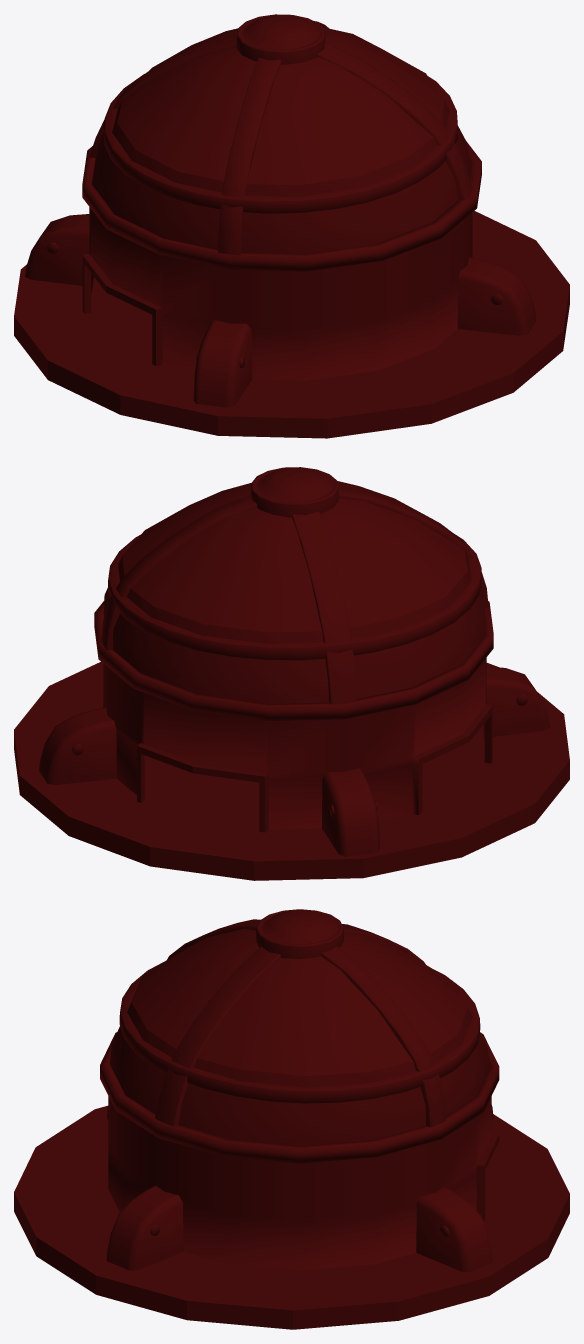
Rendered from Project Name (1).fbx.
3 renders of one model, top to bottom at view 1: azimuth 30°, elevation 25°; view 2: azimuth 150°, elevation 25°; view 3: azimuth 270°, elevation 25°, orthographic.
Visible parts, largest first — view 1: Merged Objects; view 2: Merged Objects; view 3: Merged Objects.
Part boxes in pixels (x1,y1,x2,y2): Merged Objects: (14, 14, 569, 438); Merged Objects: (14, 467, 569, 880); Merged Objects: (14, 909, 569, 1329).
Size of the model in its own units: 13849 by 13848 by 8019.
